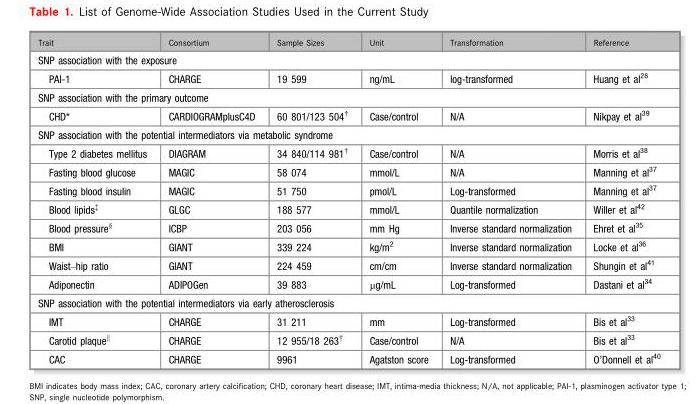table: (37, 36, 659, 364)
table column: (438, 36, 581, 364), (37, 36, 156, 364), (156, 36, 265, 364), (265, 36, 357, 364), (357, 36, 438, 364), (581, 36, 659, 364)
table column header: (37, 36, 659, 50)
table projected row header: (37, 50, 659, 68), (37, 87, 659, 105), (37, 124, 659, 142), (37, 293, 659, 311)
table row: (37, 273, 659, 293), (37, 68, 659, 87), (37, 105, 659, 124), (37, 142, 659, 161), (37, 161, 659, 180), (37, 198, 659, 217), (37, 217, 659, 236), (37, 236, 659, 255), (37, 329, 659, 348), (37, 50, 659, 68), (37, 87, 659, 105), (37, 124, 659, 142), (37, 180, 659, 198), (37, 255, 659, 273), (37, 293, 659, 311), (37, 311, 659, 329), (37, 348, 659, 364), (37, 36, 659, 50)
